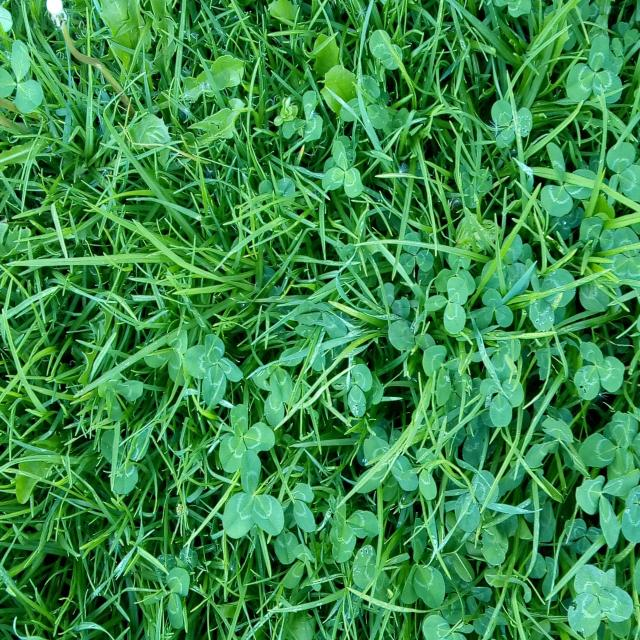Four Leaf Clover: (184, 332, 243, 406)
